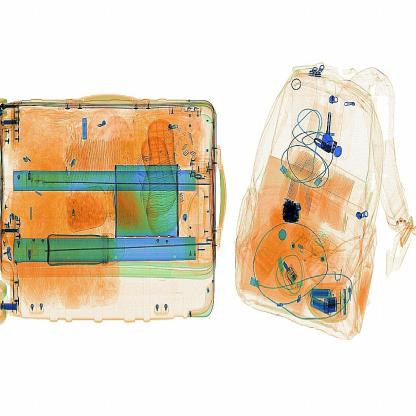scissors: (280, 188, 308, 231)
